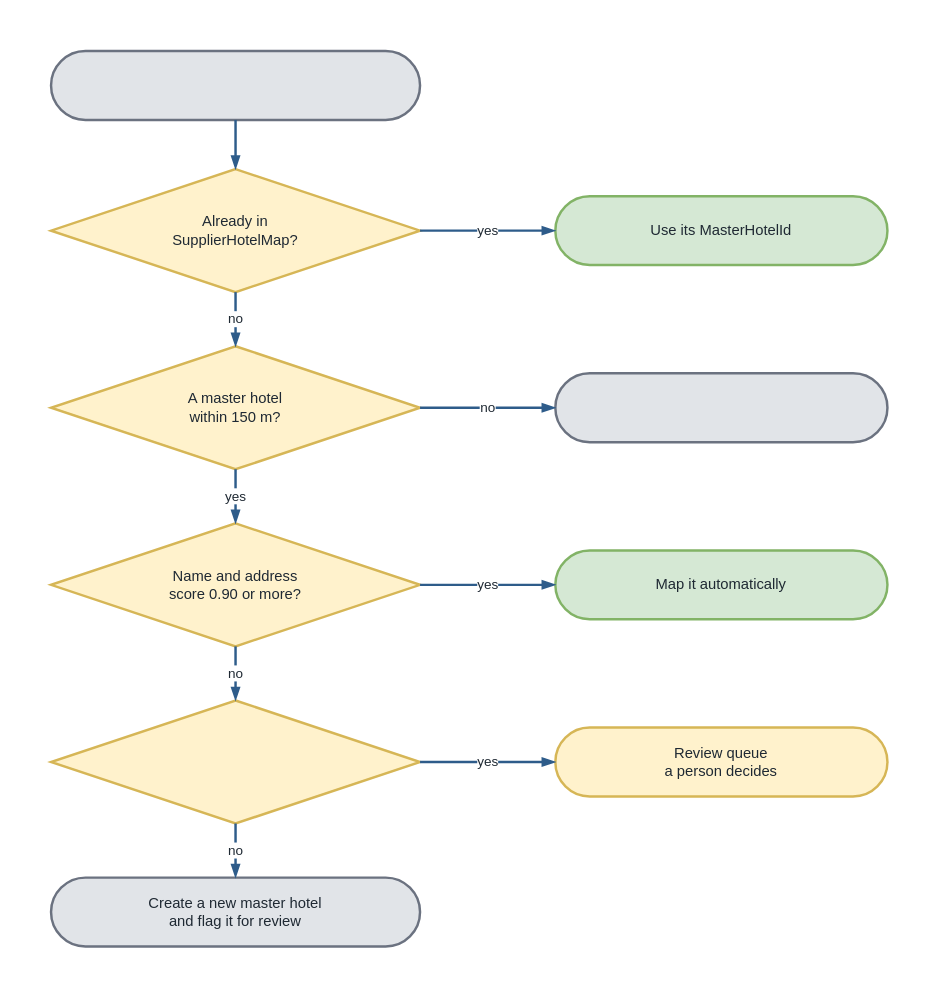
This 937x996 diagram has some shape labels left out. The shapes that lost their labels are listed below. From the top down, each one's centre as x and y in pixels, then its label:
(235,85): A supplier hotel arrives from the nightly content sync
(721,407): Create a new master hotel
(235,761): Score 0.70 or more?
